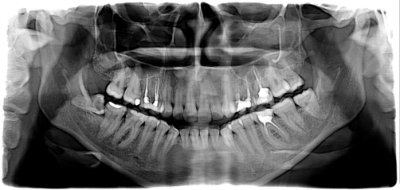canine: (220, 70, 238, 121), (160, 71, 173, 128), (165, 122, 178, 163)
incisor: (206, 75, 227, 125), (173, 62, 188, 125), (197, 77, 213, 127), (183, 80, 199, 129), (188, 121, 202, 155), (208, 124, 221, 158), (199, 119, 211, 155), (178, 125, 192, 154)
molar: (111, 103, 146, 162), (248, 110, 293, 151), (269, 97, 306, 139), (101, 102, 127, 149), (245, 70, 276, 107), (274, 57, 305, 94), (293, 89, 325, 124), (106, 53, 128, 100), (123, 58, 142, 109), (231, 72, 255, 112), (265, 64, 288, 97)
premolar: (239, 113, 266, 162), (147, 64, 167, 123), (226, 120, 252, 163), (139, 114, 159, 169), (66, 91, 108, 117), (138, 58, 157, 114), (218, 124, 239, 164), (155, 114, 170, 160)
